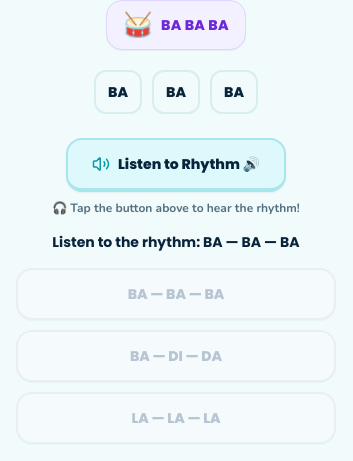
Test case: Sound & Rhythm: Step 3.1 — Fix Missing, Unclear, and Unexpected Audio › 22. successful playback enables answering and transforms button to Listen Again
The width and height of the screenshot is (353, 461).
Step 1. Click the button with test id "rhythm-audio-button" → (176, 165), box [66,138,286,192]
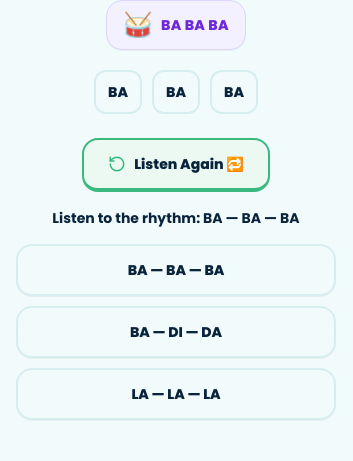
Expected: the text "Listen Again 🔁" is shown, [134,154,244,174]
Expected: the button "BA — BA — BA" is enabled, [16,244,336,296]
